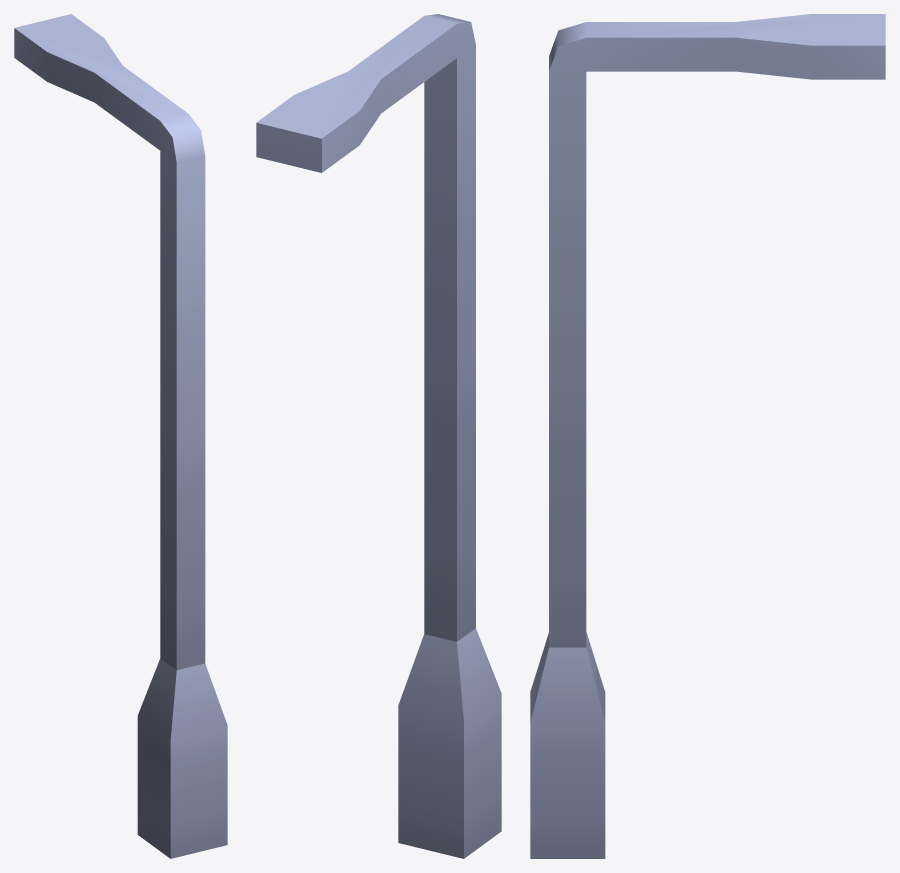
Rendered from street-lamp.glb.
3 renders of one model, left to right at view 1: azimuth 30°, elevation 25°; view 2: azimuth 150°, elevation 25°; view 3: azimuth 270°, elevation 25°, orthographic. The views are drawn at different scales.
Parts seen in each view (by area): view 1: light-square; view 2: light-square; view 3: light-square.
Part boxes in pixels (left/top/right/bottom): light-square: left=14, top=14, right=227, bottom=858; light-square: left=256, top=14, right=501, bottom=858; light-square: left=530, top=14, right=885, bottom=858.
Size of the model in its own units: 0.4002 by 4.8 by 1.9.
1 material, 1 textured.
